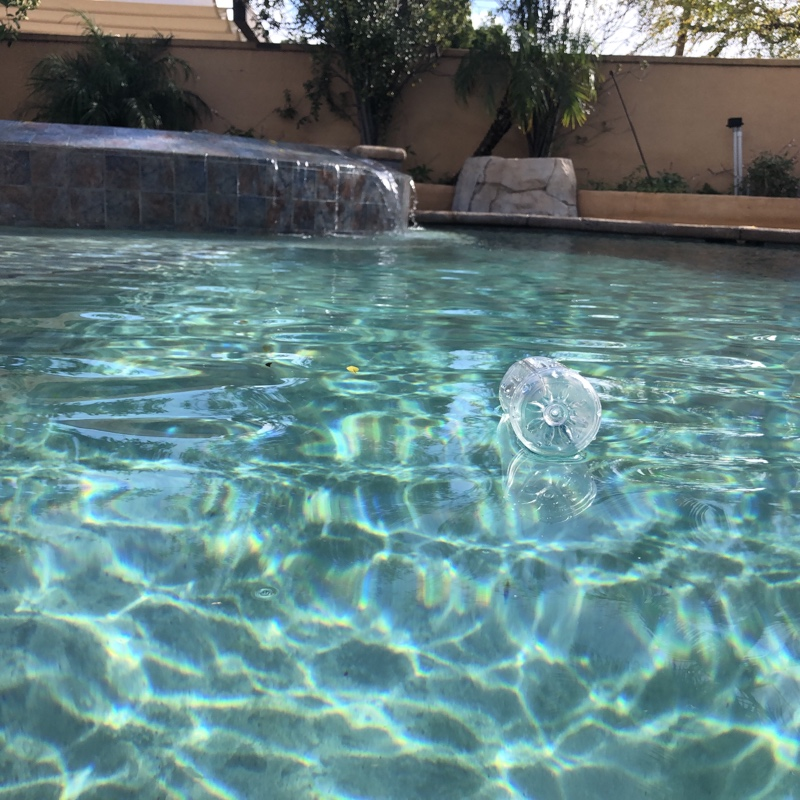Plastic Bottle: (498, 350, 605, 466)
